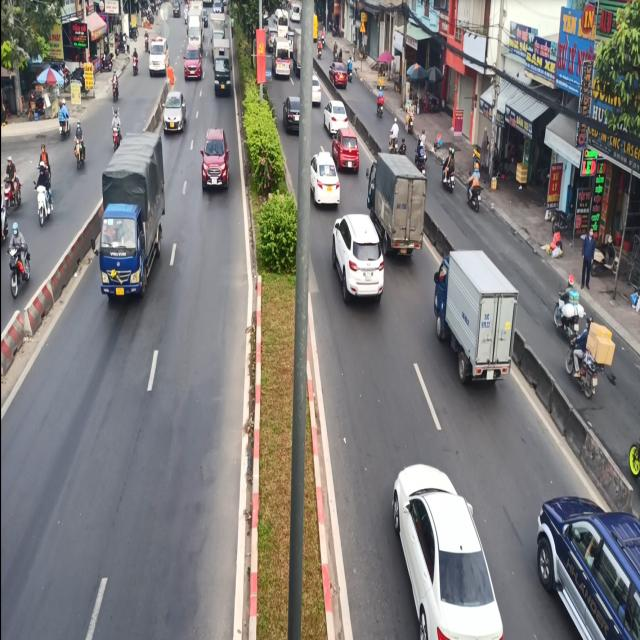car: (391, 449, 506, 640), (326, 210, 382, 302), (200, 124, 230, 196), (161, 88, 189, 142)
truck: (94, 128, 174, 304), (435, 247, 523, 405), (369, 146, 430, 255)
